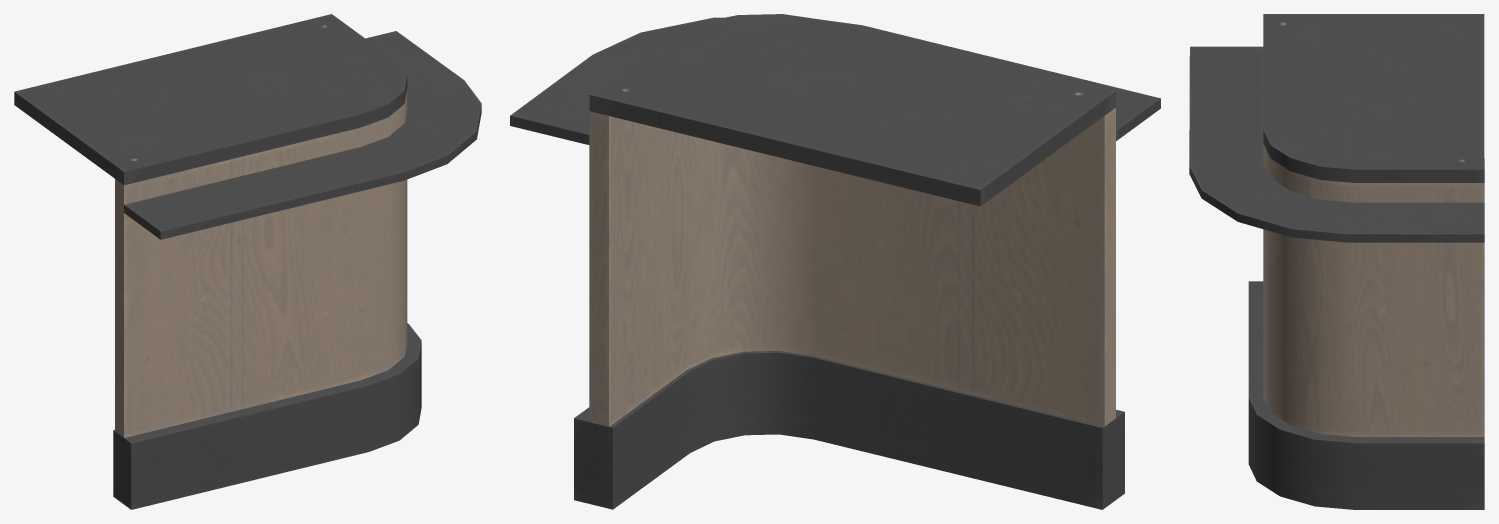
The model's file is SM_Counter_3.fbx.
3 views of the same model, side by side, from view 1: azimuth 30°, elevation 25°; view 2: azimuth 150°, elevation 25°; view 3: azimuth 270°, elevation 25° (orthographic). The views are drawn at different scales.
Visible parts, largest first — view 1: SM_Counter_3_LOD0; view 2: SM_Counter_3_LOD0; view 3: SM_Counter_3_LOD0.
Boxes of the visible parts, x1=… form: SM_Counter_3_LOD0: x1=14, y1=14, x2=481, y2=509; SM_Counter_3_LOD0: x1=510, y1=14, x2=1160, y2=509; SM_Counter_3_LOD0: x1=1189, y1=14, x2=1484, y2=509.
Bounding box in the file's own units: 120 × 80.13 × 100.
